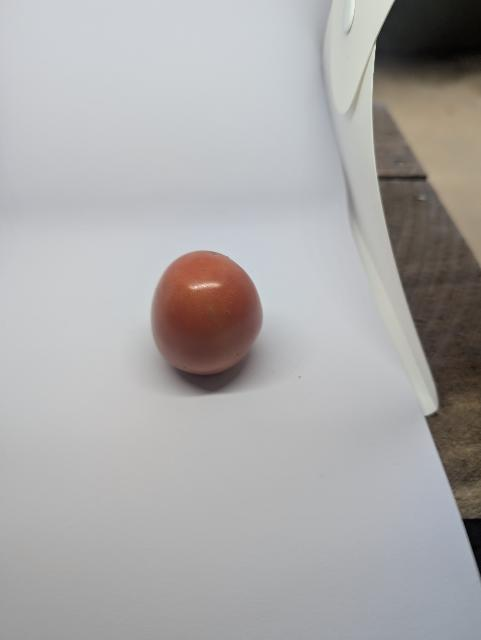red: (136, 242, 281, 394)
